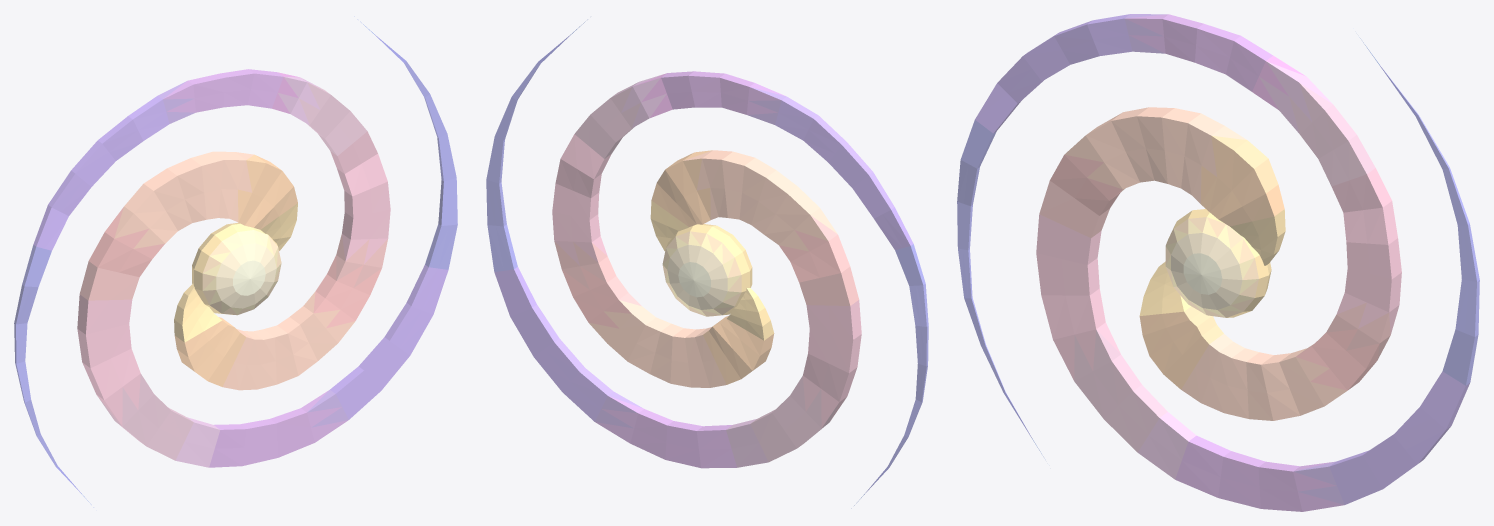
The model's file is galaxy-004.glb.
3 renders of one model, left to right at view 1: azimuth 30°, elevation 25°; view 2: azimuth 150°, elevation 25°; view 3: azimuth 330°, elevation 25°, orthographic. The views are drawn at different scales.
Visible parts, largest first — view 1: galaxy-004; view 2: galaxy-004; view 3: galaxy-004.
Boxes of the visible parts, left/top/right/bottom form: galaxy-004: left=14, top=16, right=457, bottom=507; galaxy-004: left=486, top=19, right=928, bottom=508; galaxy-004: left=957, top=14, right=1479, bottom=511.
Size of the model in its own units: 117 by 111 by 12.88.
